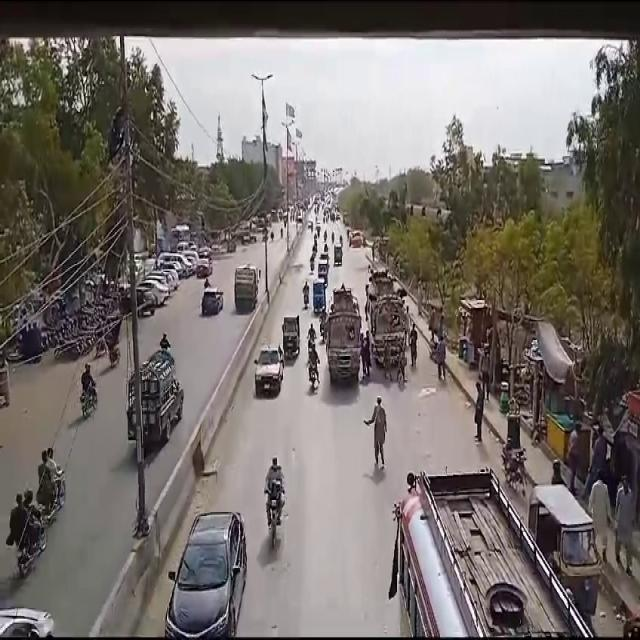car: (160, 488, 249, 640), (253, 337, 285, 398)
motorbike: (7, 484, 49, 574), (260, 442, 292, 552)
truck: (124, 341, 185, 448)
